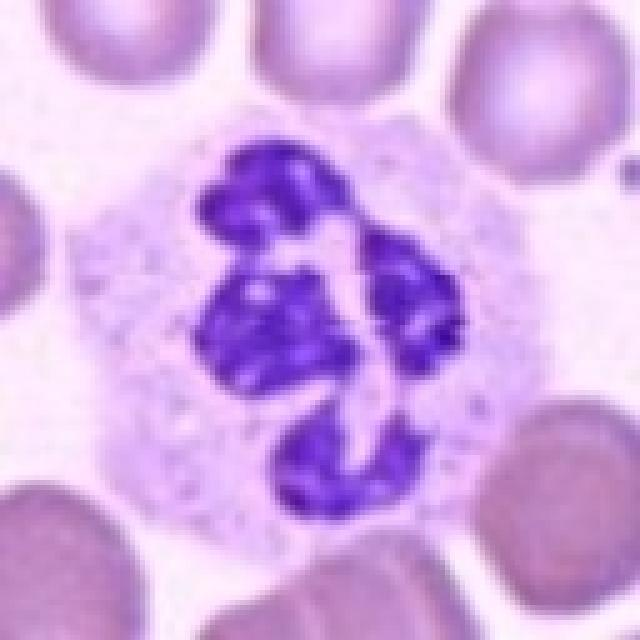neutro: (108, 137, 560, 489)
